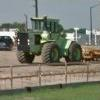Tractor: (15, 10, 85, 68)
